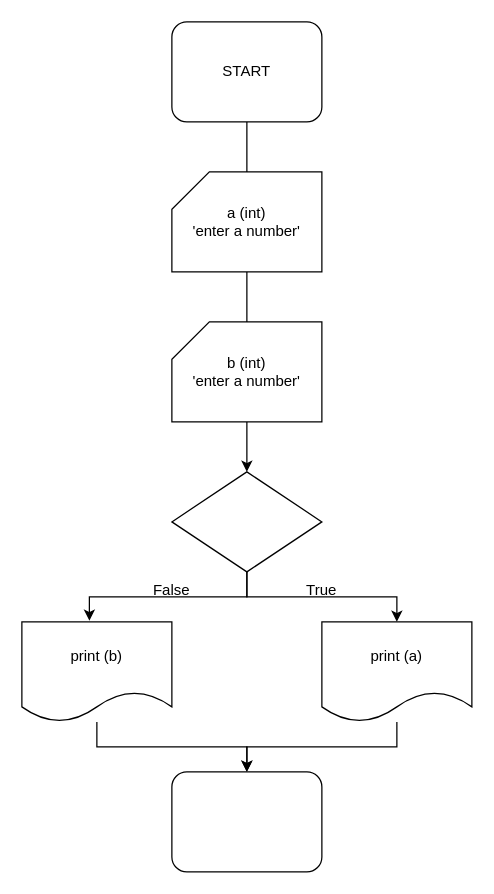
Image size: 494x894. Some labels were removed from this diagram. Each missing label, with the box of its shape:
a>b: (171, 471, 322, 572)
END: (171, 771, 322, 872)
